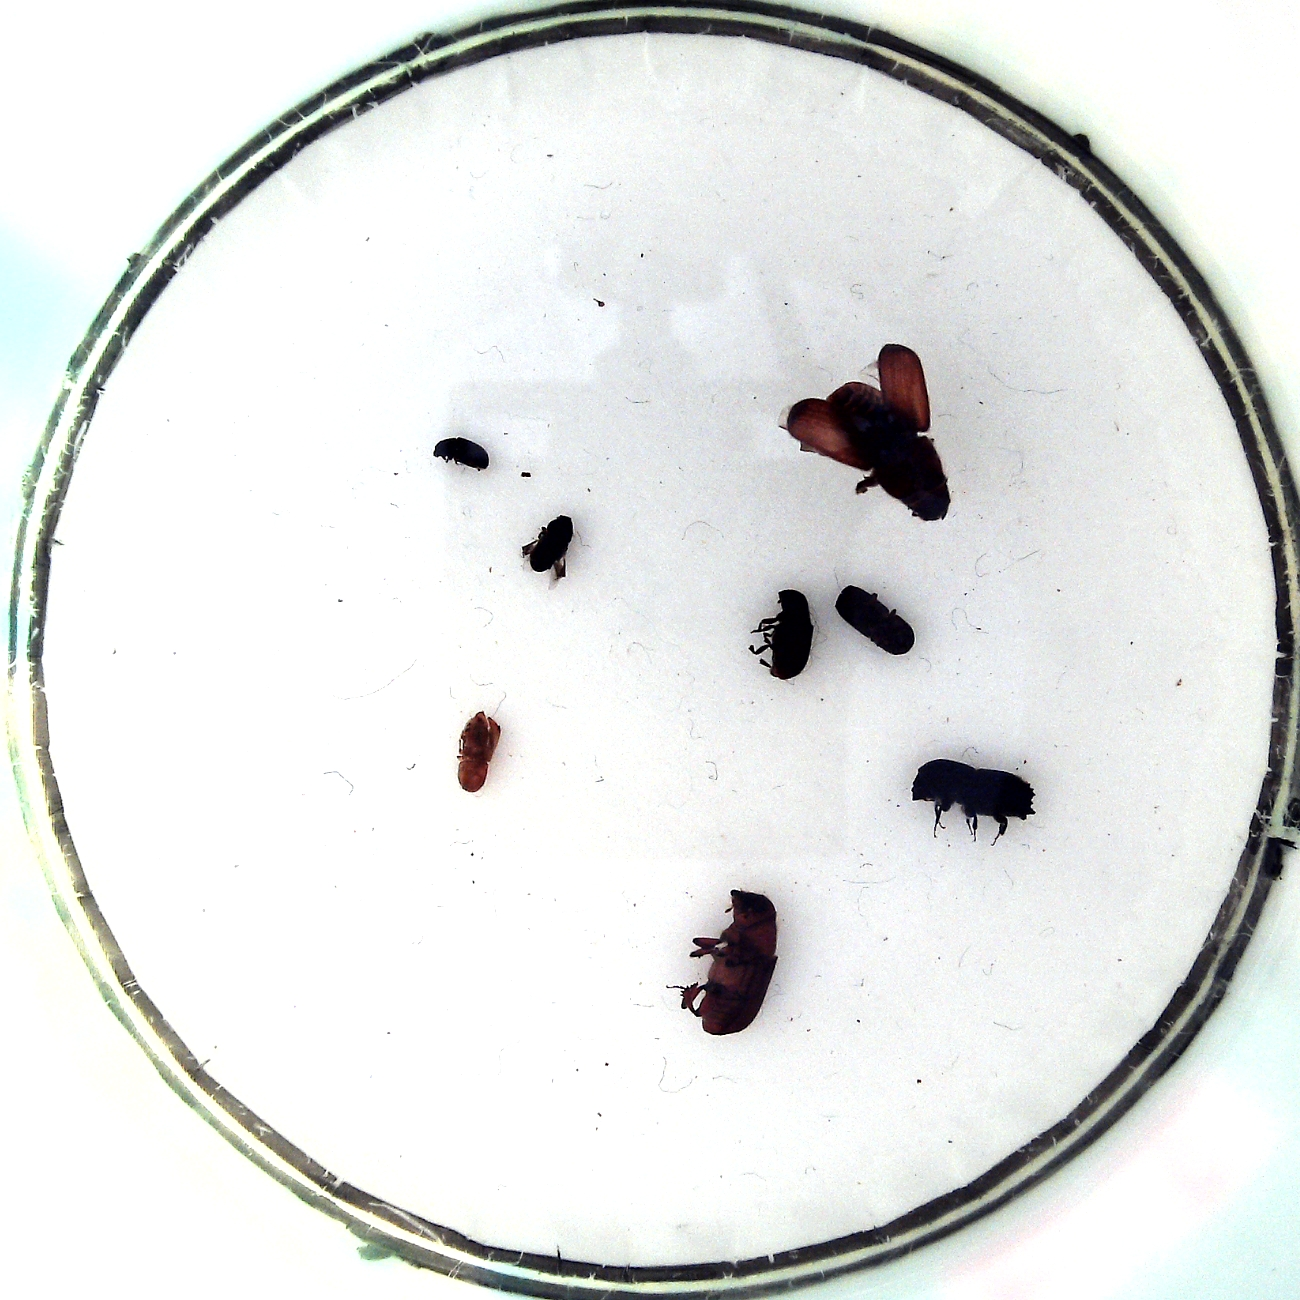Boerner: (911, 760, 1037, 823)
Leconte: (826, 381, 952, 521), (698, 888, 779, 1035)
acuminatus: (530, 515, 573, 571)
armandi: (765, 590, 815, 679)
coleoptera: (457, 710, 501, 793), (433, 435, 489, 471)
linnaeus: (836, 585, 915, 655)
